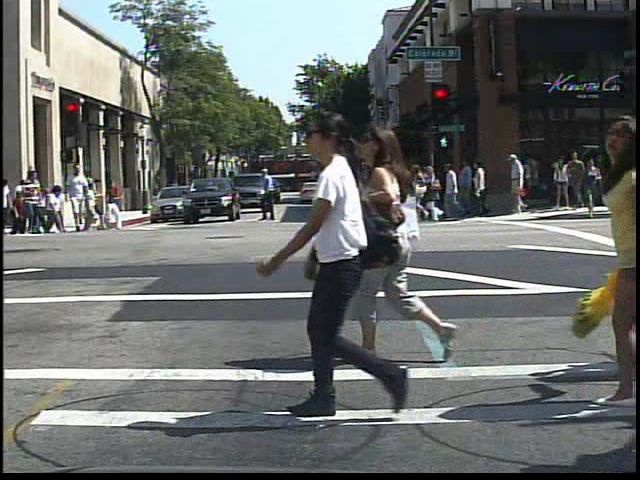person: (272, 105, 401, 422), (364, 119, 471, 366), (62, 161, 92, 233), (17, 168, 43, 237), (506, 149, 528, 215), (106, 175, 126, 214), (165, 173, 184, 206)
